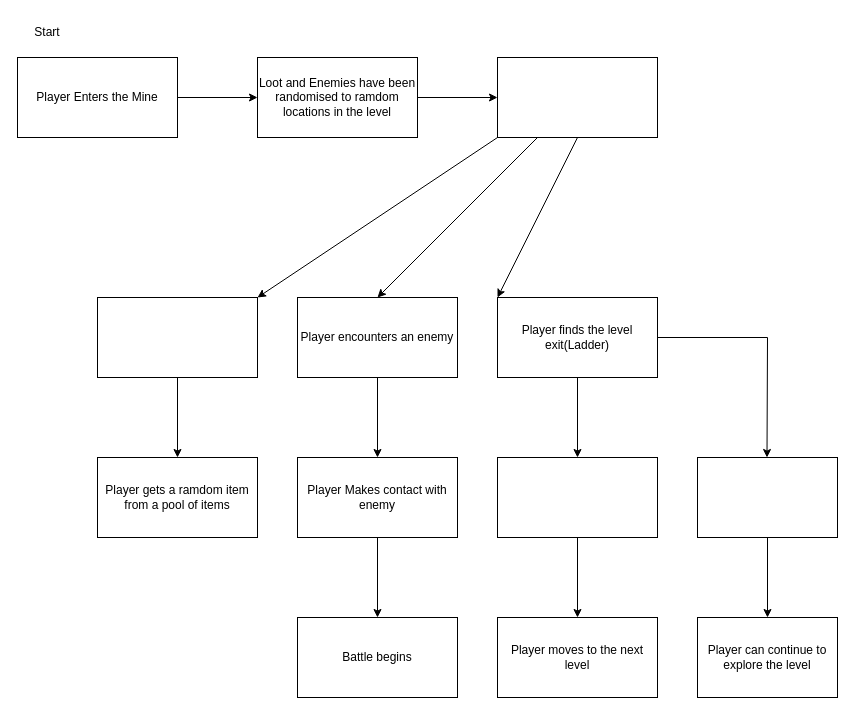
This 855x715 diagram has some shape labels left out. Each missing label, with the box of its shape:
Player can explore the level freely: (496, 56, 658, 138)
Player goes down the ladder: (496, 456, 658, 538)
Player leaves the ladder: (696, 456, 838, 538)
Player loots a chest/barrel: (96, 296, 258, 378)
